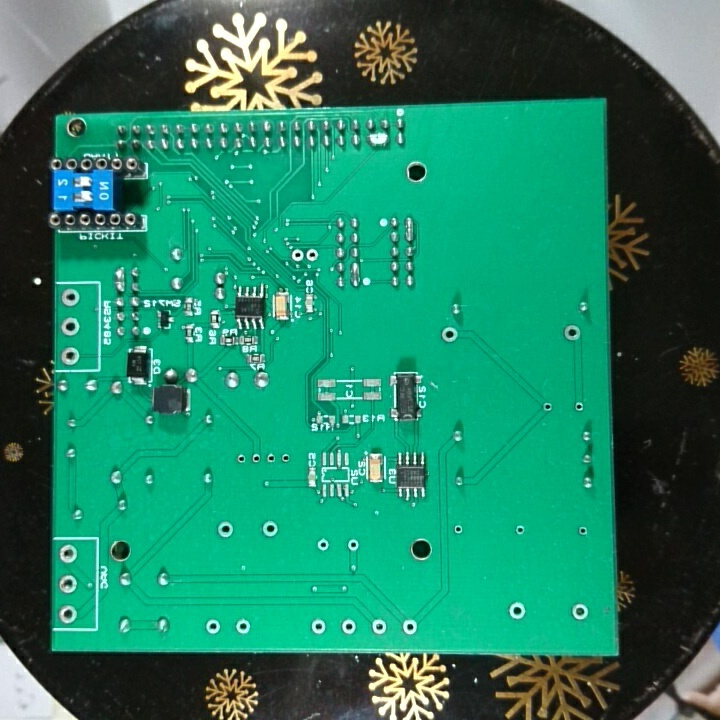F: (559, 321, 582, 345), (59, 344, 82, 368), (59, 315, 82, 339), (57, 572, 79, 597), (60, 286, 82, 311), (569, 600, 591, 624), (57, 602, 79, 626), (57, 542, 81, 564), (308, 616, 330, 638), (505, 600, 529, 620), (439, 322, 458, 346), (215, 519, 236, 540), (259, 518, 279, 540), (339, 616, 357, 638), (369, 617, 388, 637), (203, 617, 223, 636), (400, 618, 418, 638), (234, 616, 252, 635), (248, 449, 264, 469), (290, 245, 305, 266), (278, 447, 292, 469), (346, 535, 361, 555), (304, 245, 319, 265), (575, 523, 591, 540), (315, 535, 330, 553), (265, 448, 279, 467), (513, 522, 528, 539), (234, 451, 248, 469), (451, 521, 465, 538), (572, 399, 585, 416), (540, 399, 553, 416)
P: (365, 129, 391, 152), (401, 213, 419, 244), (347, 259, 363, 289), (112, 263, 127, 295)
